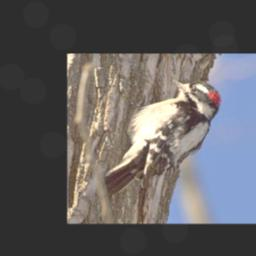Woodpecker: (104, 78, 222, 196)
